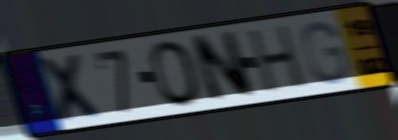7: (92, 47, 132, 116)
G: (298, 18, 352, 86)
H: (247, 22, 308, 97)
N: (187, 28, 257, 106)
O: (146, 38, 205, 108)
X: (35, 51, 109, 125)
